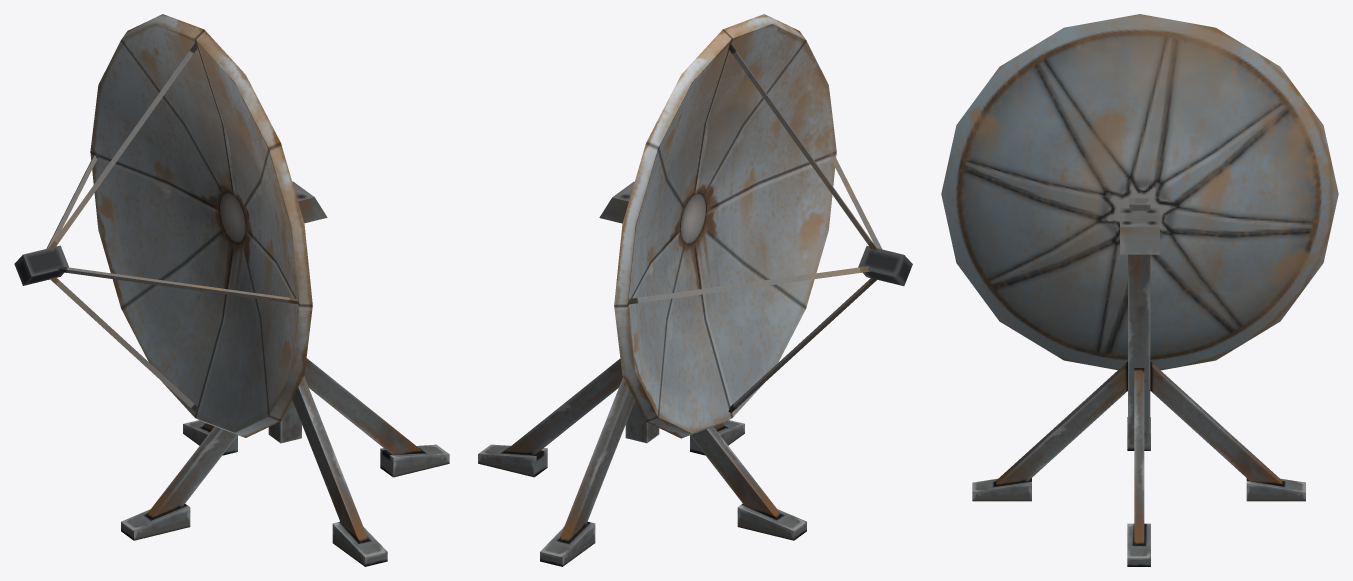
The model's file is antenna05.FBX.
The picture shows the model from 3 angles, left to right: view 1: azimuth 30°, elevation 25°; view 2: azimuth 150°, elevation 25°; view 3: azimuth 270°, elevation 25°; orthographic projection. The views are drawn at different scales.
Visible parts, largest first — view 1: antenna05_dish, antenna05; view 2: antenna05_dish, antenna05; view 3: antenna05_dish, antenna05.
Part boxes in pixels (box(x1,y1,x2,y2)): antenna05_dish: box(14, 14, 327, 437); antenna05: box(121, 358, 449, 566); antenna05_dish: box(599, 14, 912, 438); antenna05: box(478, 359, 806, 566); antenna05_dish: box(941, 14, 1338, 370); antenna05: box(972, 254, 1305, 566).
Size of the model in its own units: 223 by 248 by 200.
